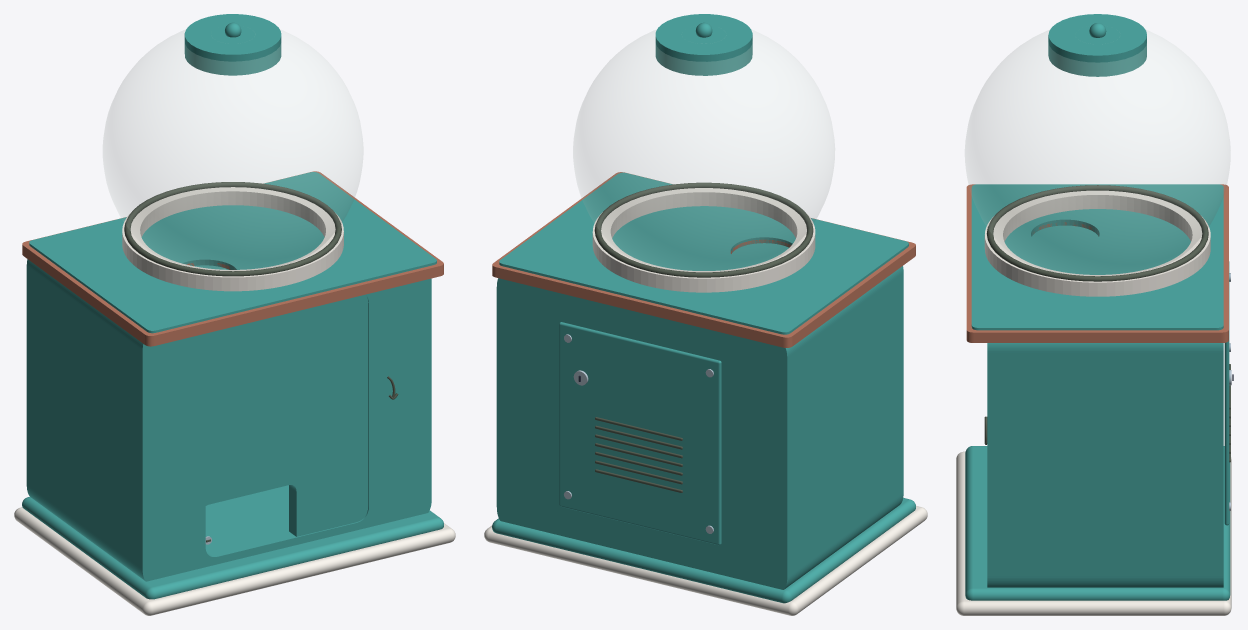
Rendered from machine-garden.prefab.glb.
The picture shows the model from 3 angles, left to right: view 1: azimuth 30°, elevation 25°; view 2: azimuth 150°, elevation 25°; view 3: azimuth 270°, elevation 25°; orthographic projection.
Visible parts, largest first — view 1: CabinetShell_Batch0, CabinetShell_Batch2; view 2: CabinetShell_Batch0, CabinetShell_Batch2; view 3: CabinetShell_Batch0, CabinetShell_Batch2.
Boxes of the visible parts, x1,y1,x2,y2 form: CabinetShell_Batch0: (14, 14, 455, 615); CabinetShell_Batch2: (103, 30, 362, 270); CabinetShell_Batch0: (484, 14, 927, 615); CabinetShell_Batch2: (573, 30, 834, 271); CabinetShell_Batch0: (956, 14, 1233, 615); CabinetShell_Batch2: (965, 30, 1229, 275).
Size of the model in its own units: 0.283 by 0.4465 by 0.2137.
3 materials, 3 textured.
